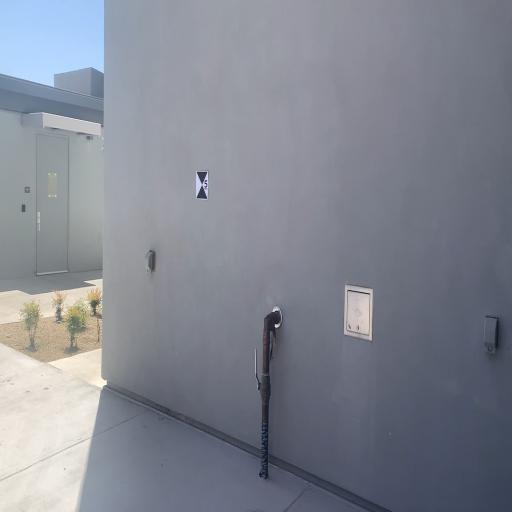target5: (196, 171, 208, 199)
